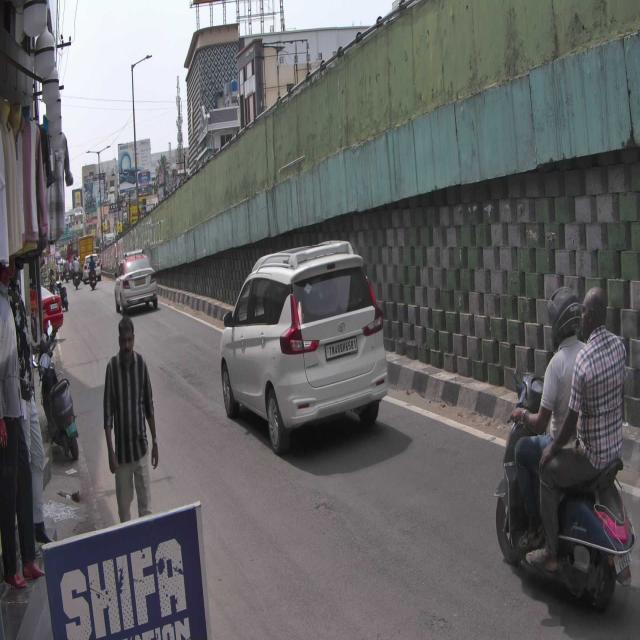double_rider: (494, 284, 635, 615)
